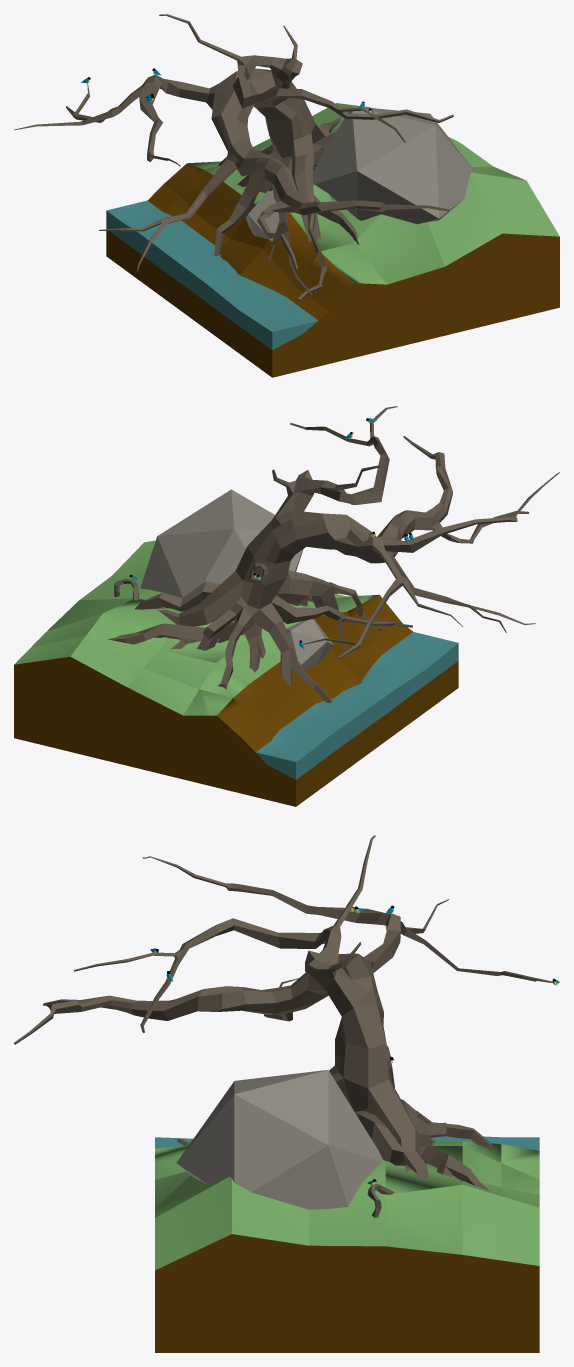
The model's file is chickadee-tree-aecb9b.glb.
3 views of the same model, one above another, from view 1: azimuth 30°, elevation 25°; view 2: azimuth 150°, elevation 25°; view 3: azimuth 270°, elevation 25° (orthographic). The views are drawn at different scales.
Parts seen in each view (by area): view 1: PropMesh; view 2: PropMesh; view 3: PropMesh.
Boxes of the visible parts, x1=… form: PropMesh: x1=14, y1=14, x2=559, y2=377; PropMesh: x1=14, y1=406, x2=559, y2=806; PropMesh: x1=14, y1=835, x2=559, y2=1352.
Size of the model in its own units: 0.6 by 0.4078 by 0.5843.
